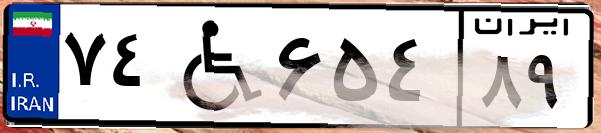4: (385, 28, 445, 110), (110, 28, 158, 98)
5: (330, 28, 385, 110)
6: (270, 28, 330, 110)
7: (57, 26, 110, 100)
8: (475, 38, 525, 113)
9: (525, 38, 570, 115)
ژ (معلولین و جانبازان): (158, 12, 270, 120)
